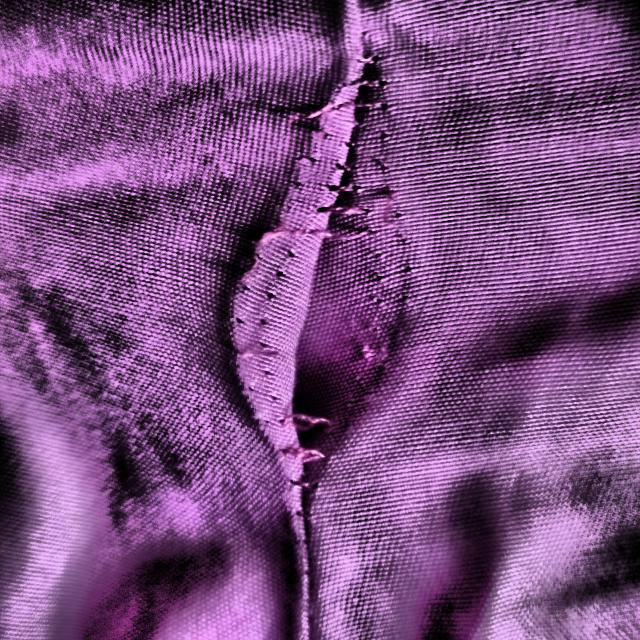seam: (207, 52, 441, 510)
